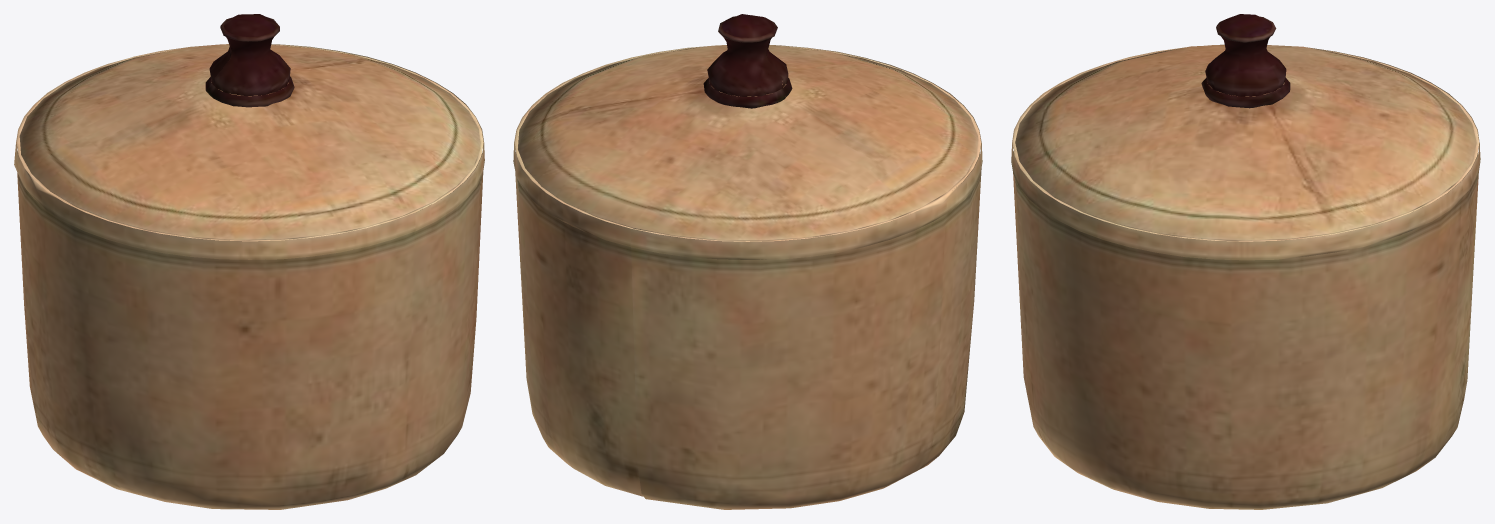
Rendered from ph_brass_pot_01.glb.
3 views of the same model, side by side, from view 1: azimuth 30°, elevation 25°; view 2: azimuth 150°, elevation 25°; view 3: azimuth 270°, elevation 25° (orthographic).
Visible parts, largest first — view 1: brass_pot_01; view 2: brass_pot_01; view 3: brass_pot_01.
Boxes of the visible parts, x1,y1,x2,y2 form: brass_pot_01: (14, 14, 484, 509); brass_pot_01: (513, 14, 982, 509); brass_pot_01: (1011, 14, 1480, 509).
Bounding box in the file's own units: 0.3005 × 0.291 × 0.3.
Materials: 1 (1 with a texture image).
